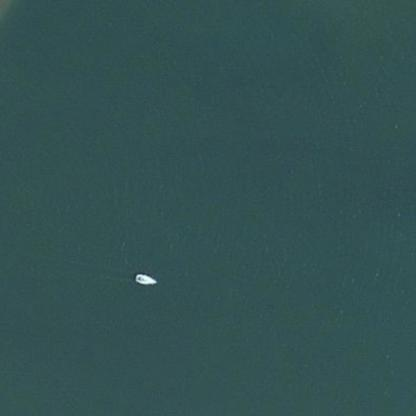ship: (129, 268, 163, 290)
